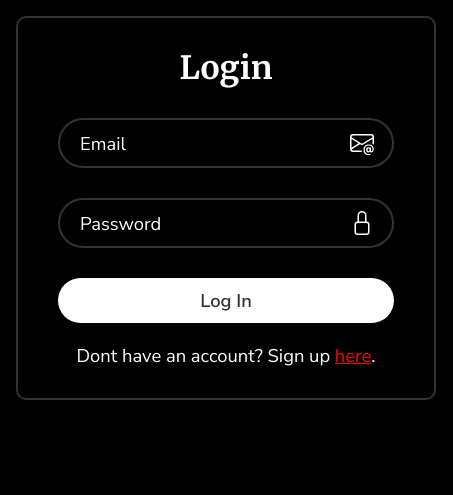
Test: login › errors › shows error when user doesn't exist
The width and height of the screenshot is (453, 495).
Type "test@gmail.com" into the field with placeholder "Email" at (226, 143), box 58,118 -> 394,168
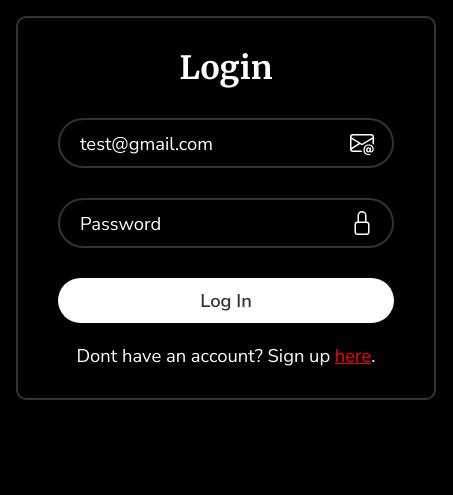
Type "testpassword" into the password field with placeholder "Password" at (226, 223), box 58,198 -> 394,248
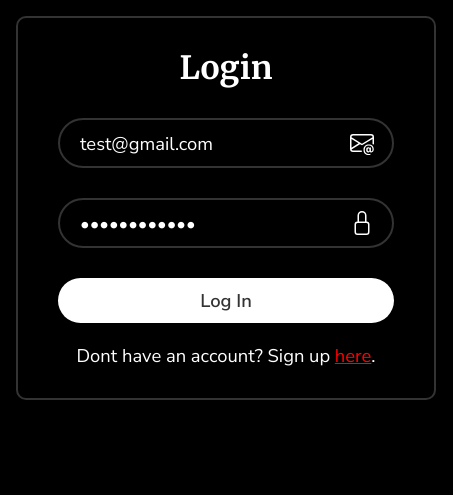
Click the button with test id "log-in-button" at (226, 300), box 58,278 -> 394,323
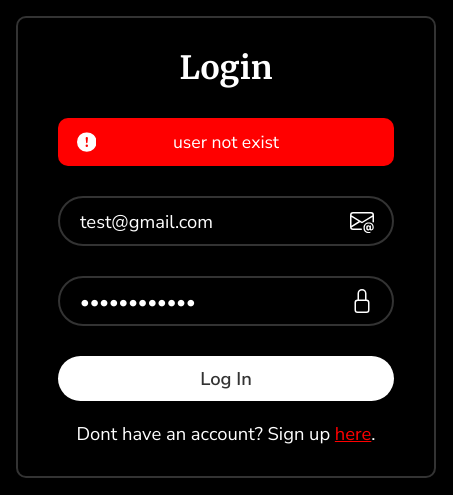
Now the text "user not exist" is shown, box 58,118 -> 394,166
